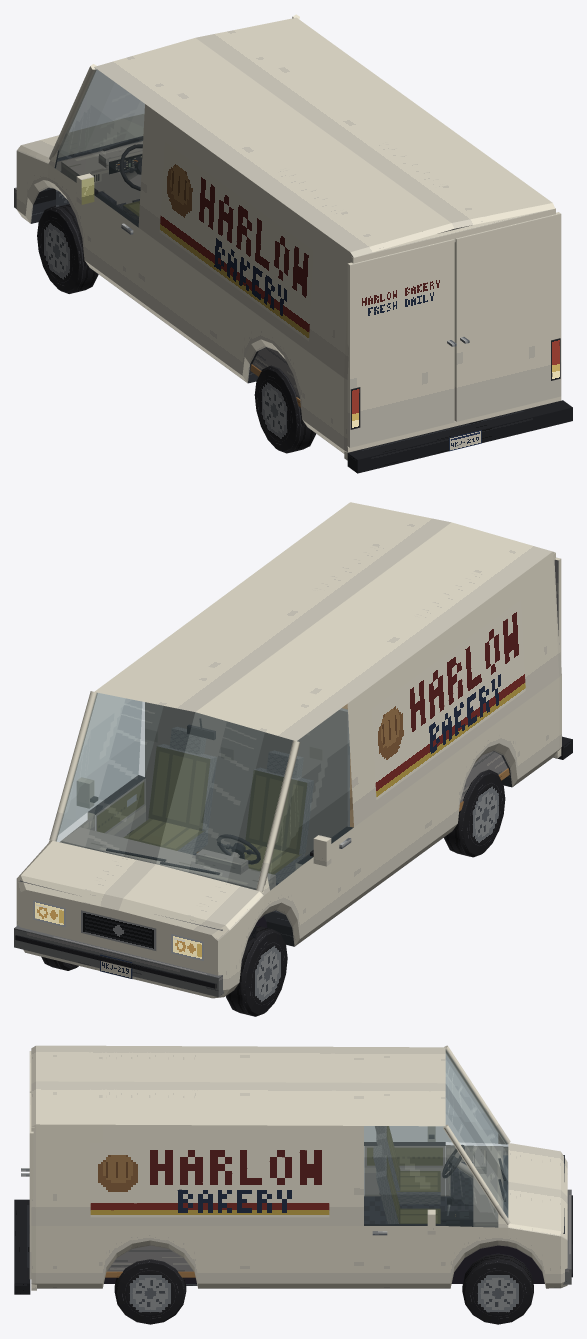
The model's file is VEH_DeliveryVan.glb.
3 views of the same model, one above another, from view 1: azimuth 30°, elevation 25°; view 2: azimuth 150°, elevation 25°; view 3: azimuth 270°, elevation 25° (orthographic). The views are drawn at different scales.
Visible parts, largest first — view 1: Body, RearDoor_R, RearDoor_L, Door_FL, Wheel_FL, Wheel_RL, Hood; view 2: Body, Door_FL, Hood, Door_FR, Wheel_FL, Wheel_RL; view 3: Body, Door_FR, Hood, Wheel_FR, Wheel_RR, Door_FL, RearDoor_R.
Part boxes in pixels (bbox=[...]): Body: bbox=[14, 14, 572, 473]; RearDoor_R: bbox=[454, 212, 561, 421]; RearDoor_L: bbox=[347, 239, 456, 447]; Door_FL: bbox=[76, 67, 144, 306]; Wheel_FL: bbox=[37, 204, 98, 293]; Wheel_RL: bbox=[254, 365, 315, 453]; Hood: bbox=[21, 114, 144, 157]; Body: bbox=[14, 502, 572, 998]; Door_FL: bbox=[295, 704, 353, 943]; Hood: bbox=[21, 841, 259, 924]; Door_FR: bbox=[77, 693, 145, 837]; Wheel_FL: bbox=[226, 925, 287, 1016]; Wheel_RL: bbox=[444, 769, 505, 857]; Body: bbox=[14, 1045, 572, 1294]; Door_FR: bbox=[364, 1126, 445, 1288]; Hood: bbox=[508, 1143, 560, 1230]; Wheel_FR: bbox=[462, 1253, 533, 1324]; Wheel_RR: bbox=[114, 1259, 186, 1324]; Door_FL: bbox=[364, 1126, 445, 1196]; RearDoor_R: bbox=[21, 1092, 33, 1279].
Size of what is drawn, in the model's own units: 2.32 by 2.26 by 5.62.
Materials: 3 (3 with a texture image).
